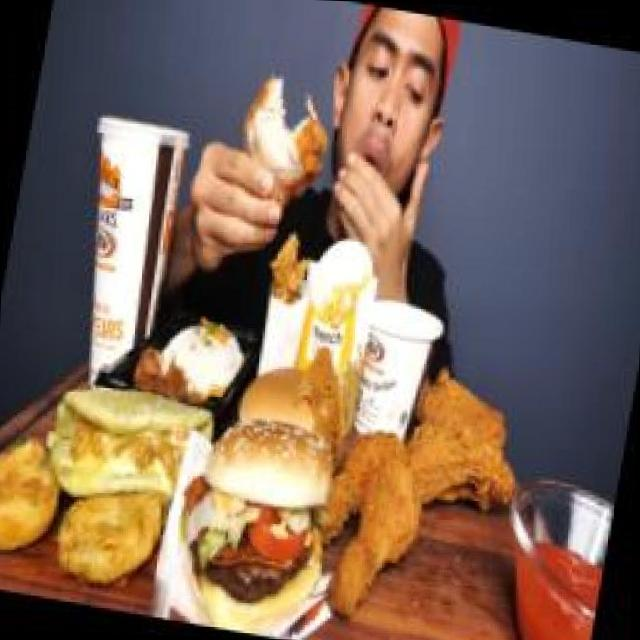AW cola: (48, 95, 198, 388)
black pepper rice bowl: (124, 293, 263, 418)
cheese burger: (231, 342, 329, 435)
chicken waffle: (256, 220, 318, 340)
crispy corn: (345, 284, 454, 454)
french fries: (300, 246, 378, 350)
fried chicken: (293, 341, 536, 640), (218, 49, 349, 238), (281, 339, 354, 441)
mozza burger: (159, 382, 353, 640), (35, 362, 228, 516)
perkedel: (45, 454, 178, 590), (0, 408, 76, 554)
